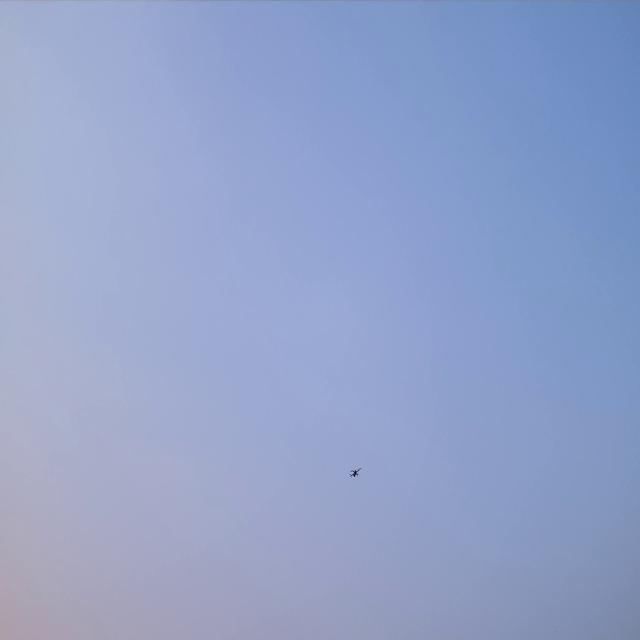UAV: (348, 464, 364, 481)
